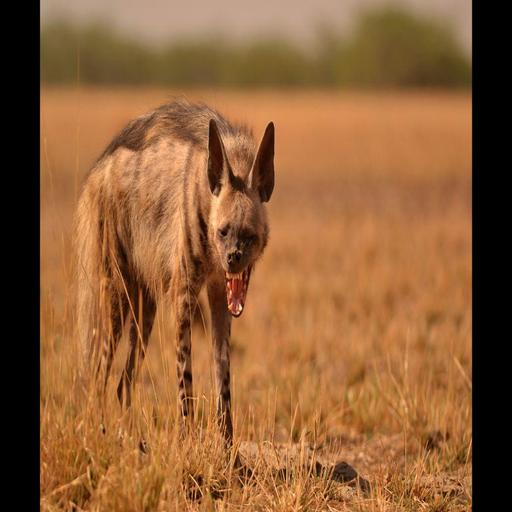Hyena: (73, 95, 288, 476)
